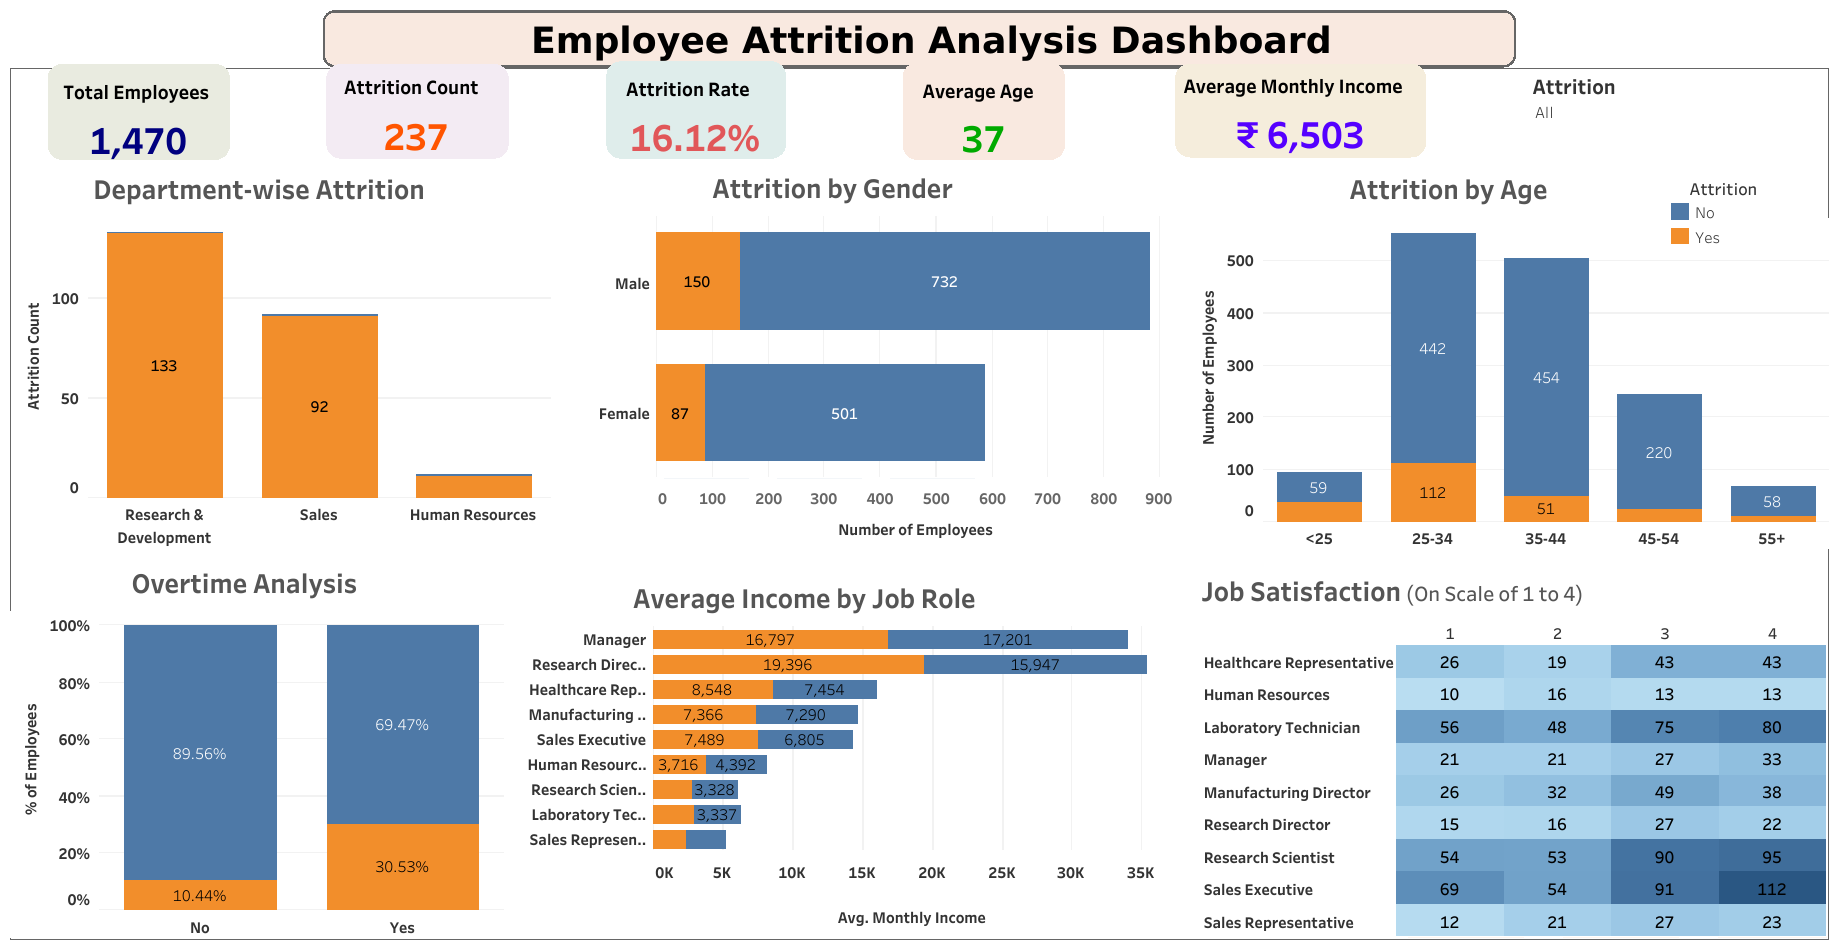

The dashboard page shown, as its layout file describes it:
{"tool":"tableau","page":{"name":"Dashboard 1","canvas":[1000,1000],"units":"permille","ordinal":0},"visuals":[{"type":"title","box":[4.9,9.4,990.3,54.1]},{"type":"worksheet","title":"Total Employees","mark":"Automatic","box":[20.2,64.6,110.5,103.4]},{"type":"worksheet","title":"Attrition Count","mark":"Automatic","box":[172.2,64.6,109.9,102.2]},{"type":"worksheet","title":"Attrition Rate","mark":"Automatic","box":[320.5,64.6,116,102.2]},{"type":"worksheet","title":"Average Age","mark":"Automatic","box":[479.9,65.8,110.5,102.2]},{"type":"worksheet","title":"Average Monthly Income","mark":"Automatic","box":[636.1,65.8,142.2,103.4]},{"type":"filter","title":"Job Satisfaction","param":"[federated.0qzlete01cjscy0zl7kg00w3wmgt].[none:Attrition:nk]","box":[833.3,74,155.7,72.9]},{"type":"worksheet","title":"Department Attrition","mark":"Automatic","rows":["Calculation_1509099320078337"],"cols":["Department"],"box":[6.7,170.4,292.4,405.4]},{"type":"worksheet","title":"Gender Attrition","mark":"Automatic","rows":["Gender"],"cols":["Calculation_1509099319463936"],"box":[302.2,170.4,337,407.8]},{"type":"worksheet","title":"Age Distribution","mark":"Automatic","rows":["Calculation_1509099319463936"],"cols":["Calculation_1509099320786948"],"box":[646,170.4,348.5,407.8]},{"type":"legend","title":"Overtime Analysis","param":"[federated.0qzlete01cjscy0zl7kg00w3wmgt].[none:Attrition:nk]","box":[907.2,183.3,72.7,72.9]},{"type":"worksheet","title":"Income by Job Role","mark":"Automatic","rows":["Job Role"],"cols":["Monthly Income"],"box":[286.6,568.7,352.2,419.5]},{"type":"worksheet","title":"Job Satisfaction","mark":"Square","rows":["Job Role"],"cols":["Job Satisfaction"],"box":[641,579.3,352.3,407.8]},{"type":"worksheet","title":"Overtime Analysis","mark":"Automatic","cols":["Overtime"],"box":[5.5,580.5,294.9,408.9]}]}

Visuals, with their boxes on the dashboard's canvas, which has no fixed pixel size, in thousandths of its width and height (x1, y1, x2, y2). These are canvas units, not pixel positions in the 1838x949 screenshot, which may show the page scaled, cropped or inside an application window:
title: 5,9,995,64
"Total Employees" worksheet: 20,65,131,168
"Attrition Count" worksheet: 172,65,282,167
"Attrition Rate" worksheet: 320,65,436,167
"Average Age" worksheet: 480,66,590,168
"Average Monthly Income" worksheet: 636,66,778,169
"Job Satisfaction" filter: 833,74,989,147
"Department Attrition" worksheet: 7,170,299,576
"Gender Attrition" worksheet: 302,170,639,578
"Age Distribution" worksheet: 646,170,994,578
"Overtime Analysis" legend: 907,183,980,256
"Income by Job Role" worksheet: 287,569,639,988
"Job Satisfaction" worksheet (Square marks): 641,579,993,987
"Overtime Analysis" worksheet: 6,580,300,989
